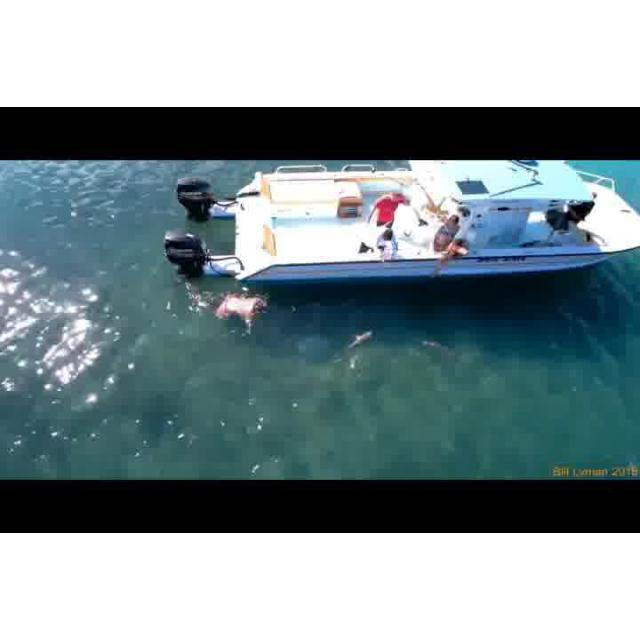human: (207, 292, 280, 337)
